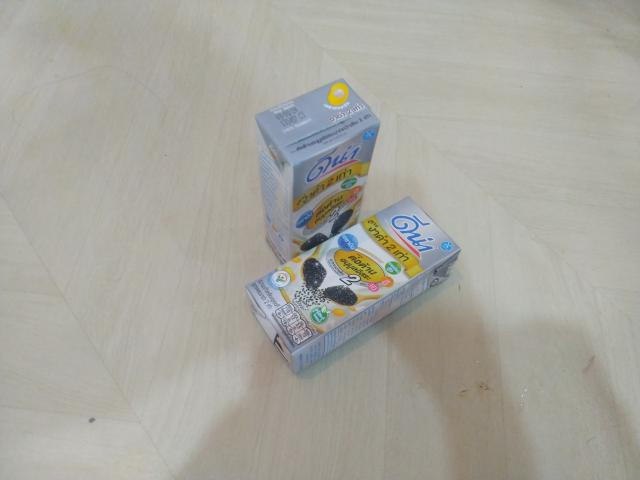drink_box: (227, 183, 485, 392), (252, 74, 382, 249)
